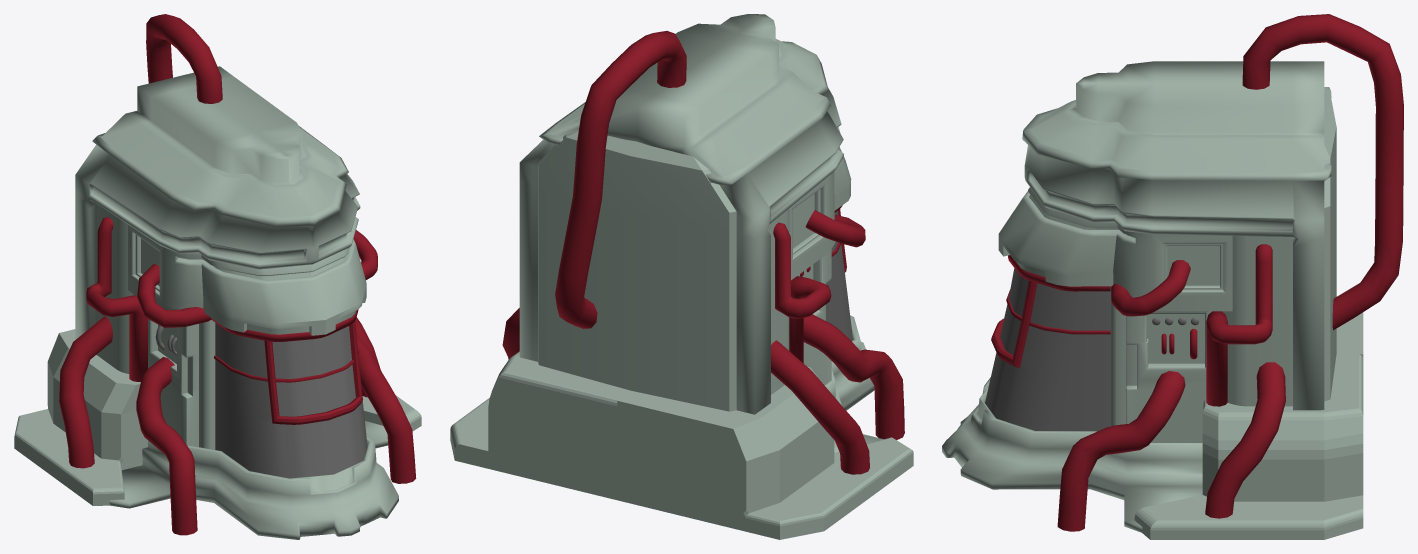
File: StatisPod.fbx
The picture shows the model from 3 angles, left to right: view 1: azimuth 30°, elevation 25°; view 2: azimuth 150°, elevation 25°; view 3: azimuth 270°, elevation 25°; orthographic projection. The views are drawn at different scales.
Parts seen in each view (by area): view 1: Cylinder.028, Cylinder.026, Cylinder.029, Cylinder.039, Cube.005, Cylinder.044, Cylinder.038, Cylinder.035, Cylinder.031, Cylinder.037, Cylinder.034, Cylinder.045 (+5 smaller); view 2: Cylinder.044, Cylinder.028, Cube.005, Cube.004, Cylinder.031, Cylinder.038, Cylinder.035, Cylinder.039, Cylinder.034, Cylinder.029, Cylinder.026, Cylinder.036 (+1 smaller); view 3: Cylinder.028, Cube.004, Cylinder.044, Cylinder.039, Cylinder.026, Cylinder.029, Cylinder.031, Cylinder.037, Cylinder.032, Cylinder.033, Cylinder.030, Cylinder.045 (+2 smaller).
Boxes of the visible parts, box(x1,y1,x2,y2) form: Cylinder.028: box(75, 66, 360, 339); Cylinder.026: box(215, 323, 367, 478); Cylinder.029: box(109, 421, 412, 539); Cylinder.039: box(128, 224, 366, 335); Cube.005: box(14, 329, 147, 505); Cylinder.044: box(96, 204, 215, 449); Cylinder.038: box(136, 357, 197, 535); Cylinder.035: box(59, 316, 112, 468); Cylinder.031: box(146, 14, 222, 103); Cylinder.037: box(356, 336, 416, 483); Cylinder.034: box(86, 217, 147, 381); Cylinder.045: box(264, 321, 362, 424); Cylinder.044: box(538, 130, 831, 411); Cylinder.028: box(519, 14, 843, 414); Cube.005: box(617, 367, 913, 539); Cube.004: box(450, 351, 630, 499); Cylinder.031: box(555, 31, 686, 328); Cylinder.038: box(803, 314, 904, 439); Cylinder.035: box(771, 340, 869, 474); Cylinder.039: box(789, 147, 851, 280); Cylinder.034: box(773, 222, 831, 363); Cylinder.029: box(824, 315, 883, 452); Cylinder.026: box(826, 211, 852, 340); Cylinder.036: box(805, 210, 865, 247); Cylinder.028: box(1022, 61, 1331, 410); Cube.004: box(1134, 354, 1363, 539); Cylinder.044: box(1110, 91, 1336, 442); Cylinder.039: box(998, 187, 1232, 311); Cylinder.026: box(985, 268, 1147, 431); Cylinder.029: box(942, 377, 1202, 532); Cylinder.031: box(1242, 14, 1403, 330); Cylinder.037: box(1057, 371, 1185, 531); Cylinder.032: box(1205, 362, 1285, 518); Cylinder.033: box(1206, 244, 1272, 406); Cylinder.030: box(1111, 260, 1190, 316); Cylinder.045: box(991, 280, 1037, 368).
Bounding box in the file's own units: 523 × 617 × 575.
